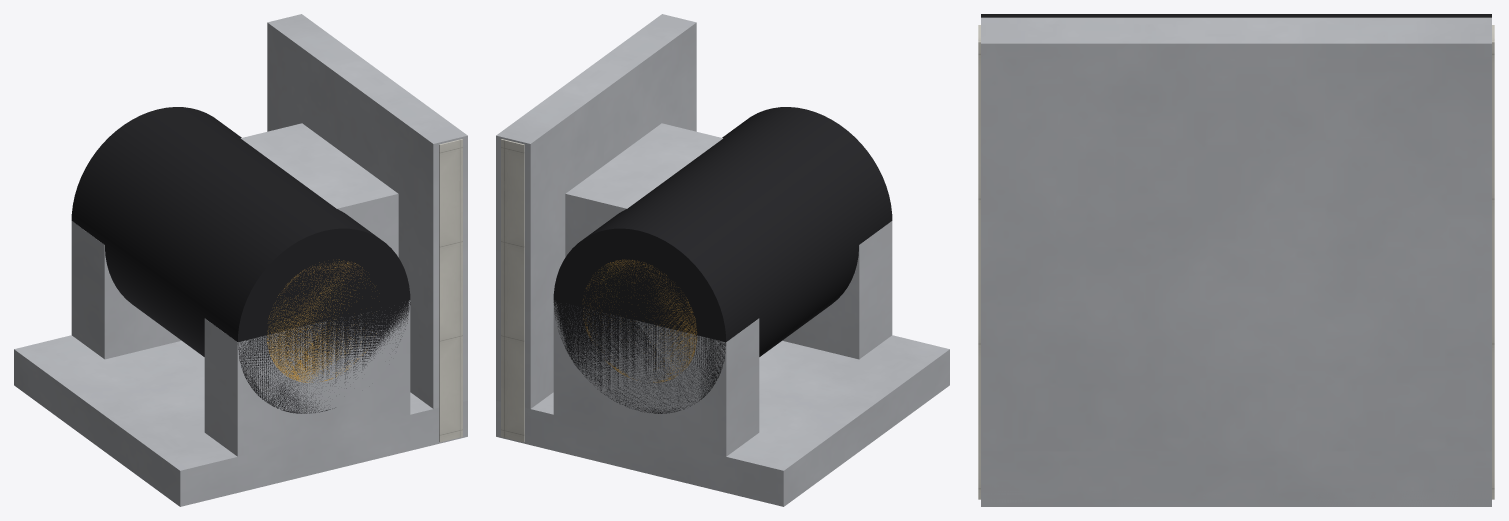
Rendered from robo00_hinge_m_bent.glb.
3 views of the same model, side by side, from view 1: azimuth 30°, elevation 25°; view 2: azimuth 150°, elevation 25°; view 3: azimuth 270°, elevation 25° (orthographic). The views are drawn at different scales.
Parts seen in each view (by area): view 1: motor, base_block, half_b_block, half_b_foil, motor_caps; view 2: motor, base_block, half_b_block, half_b_foil, motor_caps; view 3: half_b_block, base_block, half_b_foil, motor.
Boxes of the visible parts, bbox=[...] form: motor: bbox=[71, 107, 410, 413]; base_block: bbox=[14, 221, 467, 506]; half_b_block: bbox=[241, 14, 467, 444]; half_b_foil: bbox=[439, 139, 462, 442]; motor_caps: bbox=[267, 259, 376, 382]; motor: bbox=[553, 107, 892, 413]; base_block: bbox=[496, 221, 949, 506]; half_b_block: bbox=[496, 14, 722, 444]; half_b_foil: bbox=[501, 139, 524, 442]; motor_caps: bbox=[583, 259, 696, 382]; half_b_block: bbox=[981, 17, 1491, 506]; base_block: bbox=[981, 451, 1491, 506]; half_b_foil: bbox=[978, 25, 1494, 499]; motor: bbox=[981, 14, 1491, 17].
Size of the model in its own units: 0.8 by 0.8 by 0.808.
Materials: 4 (3 with a texture image).
